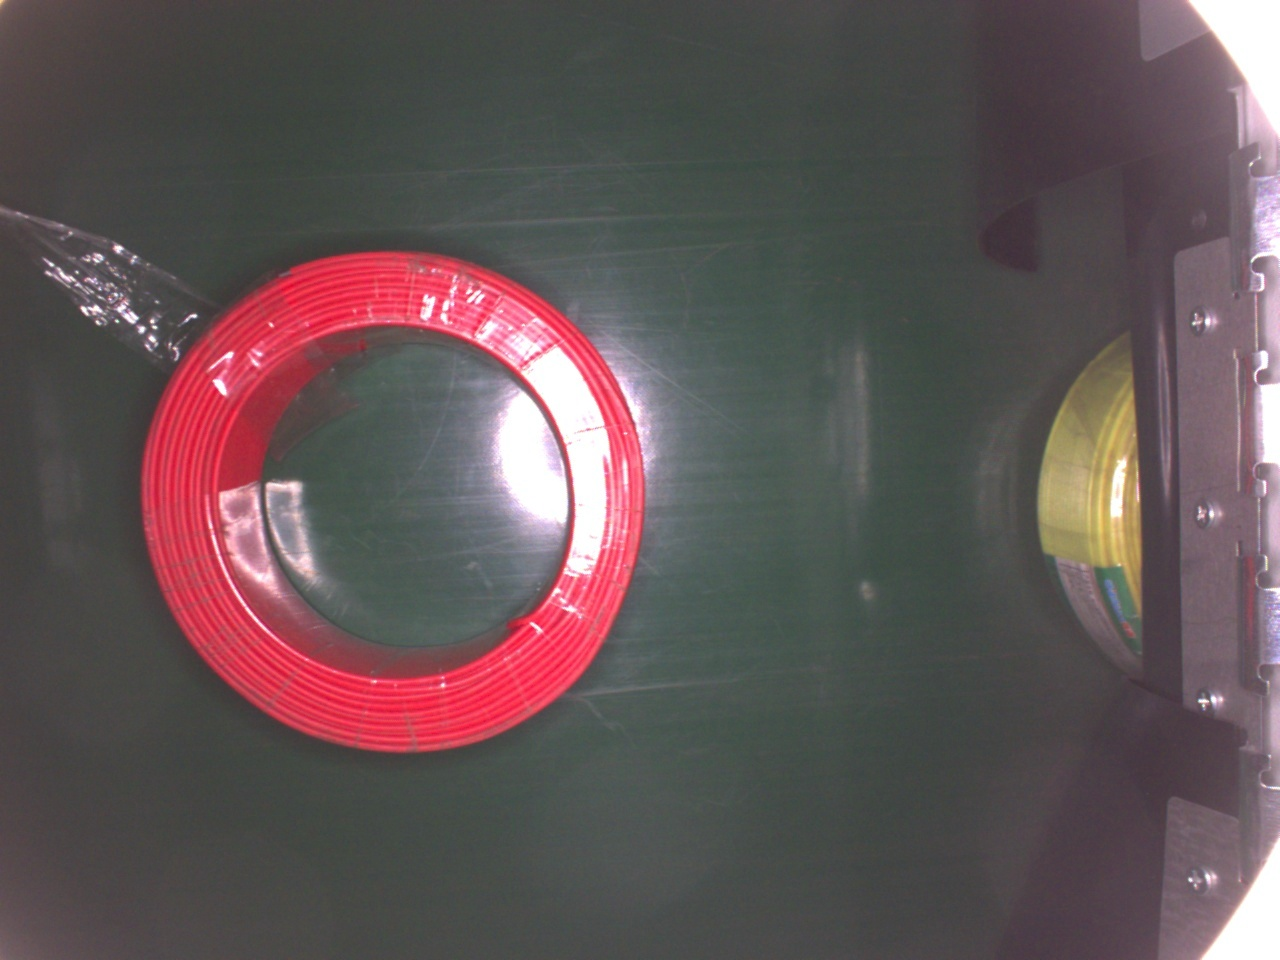red: (140, 247, 652, 748)
yellow: (1033, 320, 1147, 679)
